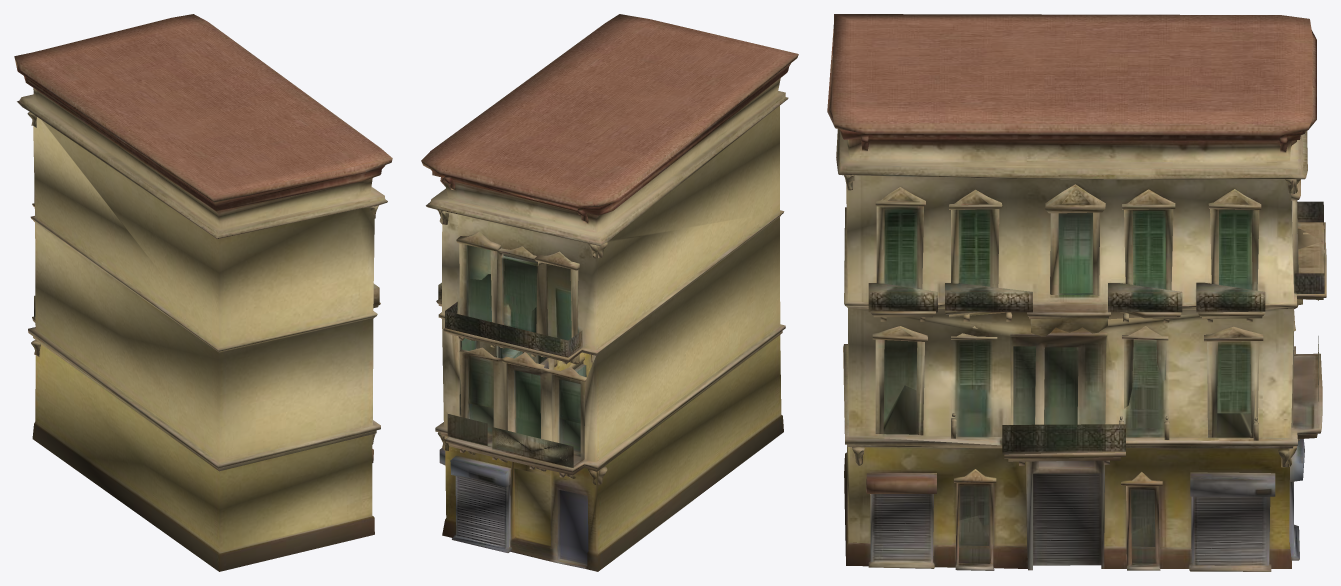
Rendered from alex_building.glb.
3 views of the same model, side by side, from view 1: azimuth 30°, elevation 25°; view 2: azimuth 150°, elevation 25°; view 3: azimuth 270°, elevation 25° (orthographic). The views are drawn at different scales.
Parts seen in each view (by area): view 1: tripo_node_52c7c8ab-7860-4963-b0b9-0f520fea2995; view 2: tripo_node_52c7c8ab-7860-4963-b0b9-0f520fea2995; view 3: tripo_node_52c7c8ab-7860-4963-b0b9-0f520fea2995.
Boxes of the visible parts, x1,y1,x2,y2 form: tripo_node_52c7c8ab-7860-4963-b0b9-0f520fea2995: (14,14,392,571); tripo_node_52c7c8ab-7860-4963-b0b9-0f520fea2995: (421,14,798,571); tripo_node_52c7c8ab-7860-4963-b0b9-0f520fea2995: (827,14,1326,571).
Size of the model in its own units: 0.5449 by 0.998 by 0.9863.
Materials: 1 (1 with a texture image).
